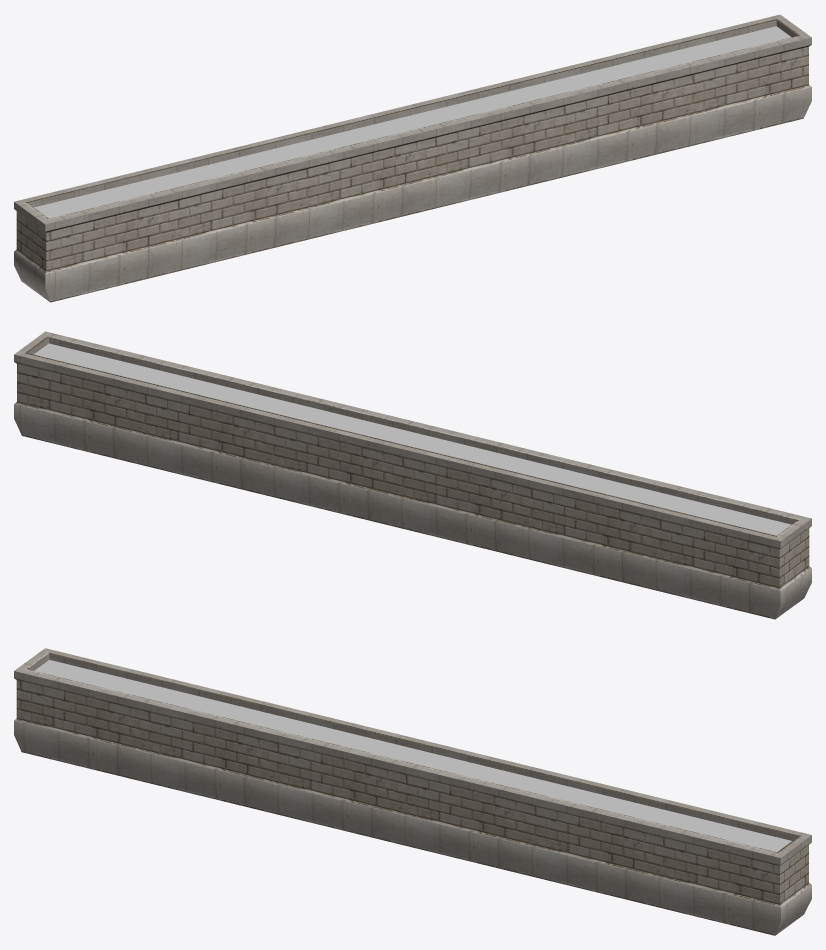
The model's file is Flowerbed_High_7x.FBX.
3 renders of one model, top to bottom at view 1: azimuth 30°, elevation 25°; view 2: azimuth 150°, elevation 25°; view 3: azimuth 330°, elevation 25°, orthographic.
Visible parts, largest first — view 1: Flowerbed_High_7x; view 2: Flowerbed_High_7x; view 3: Flowerbed_High_7x.
Part boxes in pixels (left/top/right/bottom): Flowerbed_High_7x: left=14, top=14, right=811, bottom=302; Flowerbed_High_7x: left=14, top=331, right=811, bottom=619; Flowerbed_High_7x: left=14, top=648, right=811, bottom=935.
Size of the model in its own units: 699 by 70.04 by 49.81.
